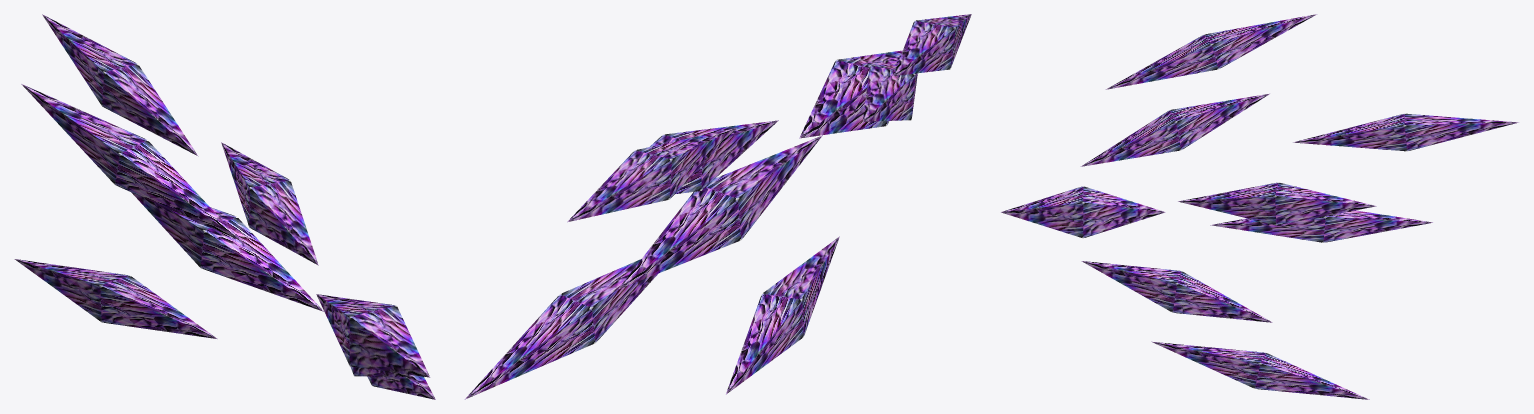
Rendered from fractusCrystals.FBX.
3 views of the same model, side by side, from view 1: azimuth 30°, elevation 25°; view 2: azimuth 150°, elevation 25°; view 3: azimuth 270°, elevation 25° (orthographic). The views are drawn at different scales.
Visible parts, largest first — view 1: Pyramid008; view 2: Pyramid008; view 3: Pyramid008.
Boxes of the visible parts, left/top/right/bottom form: Pyramid008: left=14, top=14, right=435, bottom=399; Pyramid008: left=464, top=14, right=971, bottom=399; Pyramid008: left=1001, top=14, right=1518, bottom=399.
Size of the model in its own units: 5.24 by 5.01 by 9.09.
1 material, 1 textured.
